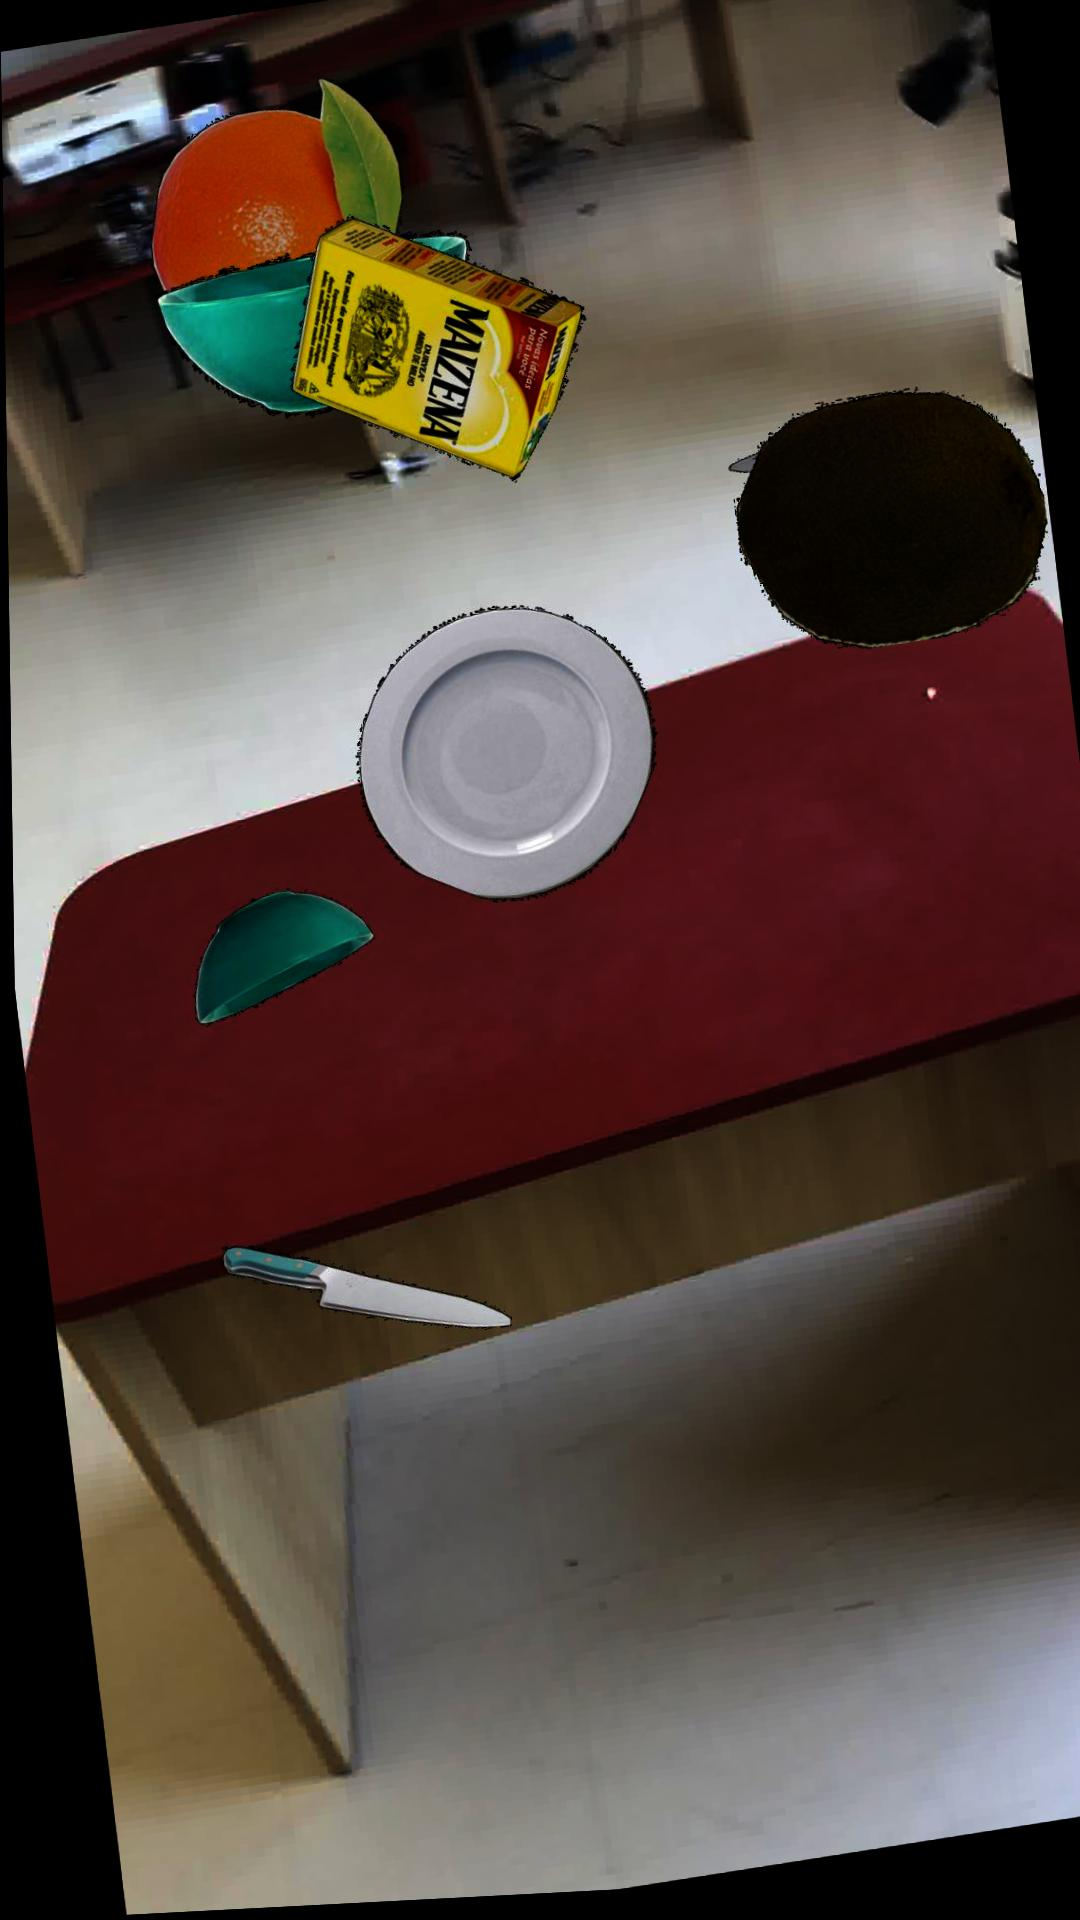bowl: (156, 233, 472, 421), (193, 891, 373, 1025)
kiwi: (735, 398, 1047, 657)
knife: (220, 1246, 509, 1332), (729, 459, 758, 480)
orange: (152, 79, 404, 293)
plate: (355, 609, 657, 906)
